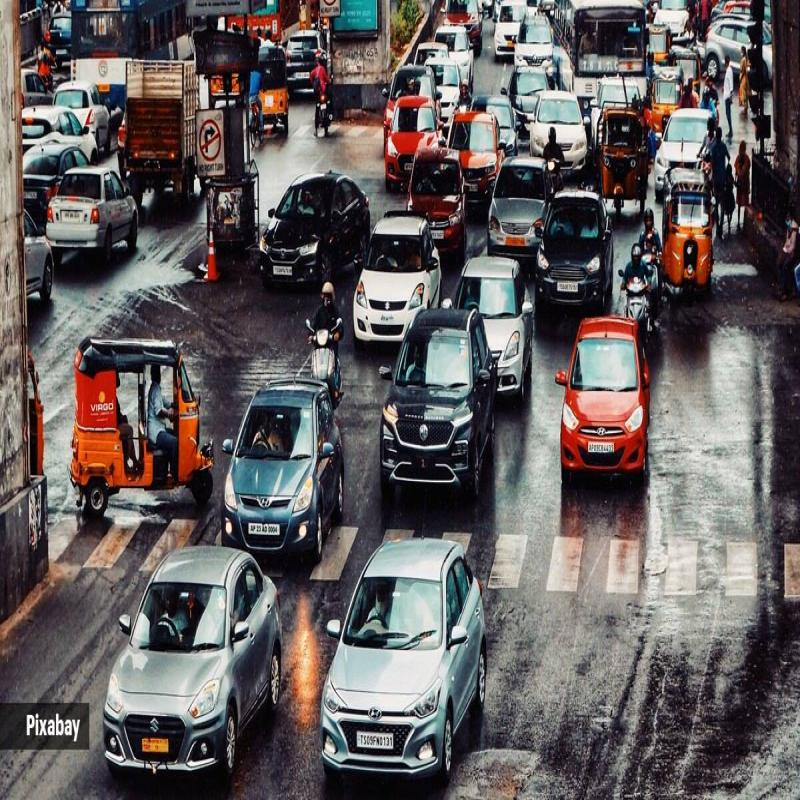auto: (60, 331, 209, 514), (656, 174, 720, 294), (600, 96, 647, 220), (254, 31, 292, 149), (654, 59, 682, 139), (667, 52, 711, 85)
bike: (310, 59, 336, 142)
car: (105, 524, 278, 800), (330, 526, 487, 800), (214, 358, 341, 561), (380, 294, 491, 494), (554, 297, 652, 477), (258, 165, 373, 302), (351, 197, 438, 337), (535, 185, 608, 336), (453, 249, 529, 386), (486, 163, 560, 271), (403, 131, 466, 244), (385, 86, 442, 195), (448, 101, 503, 208), (535, 92, 594, 184)
